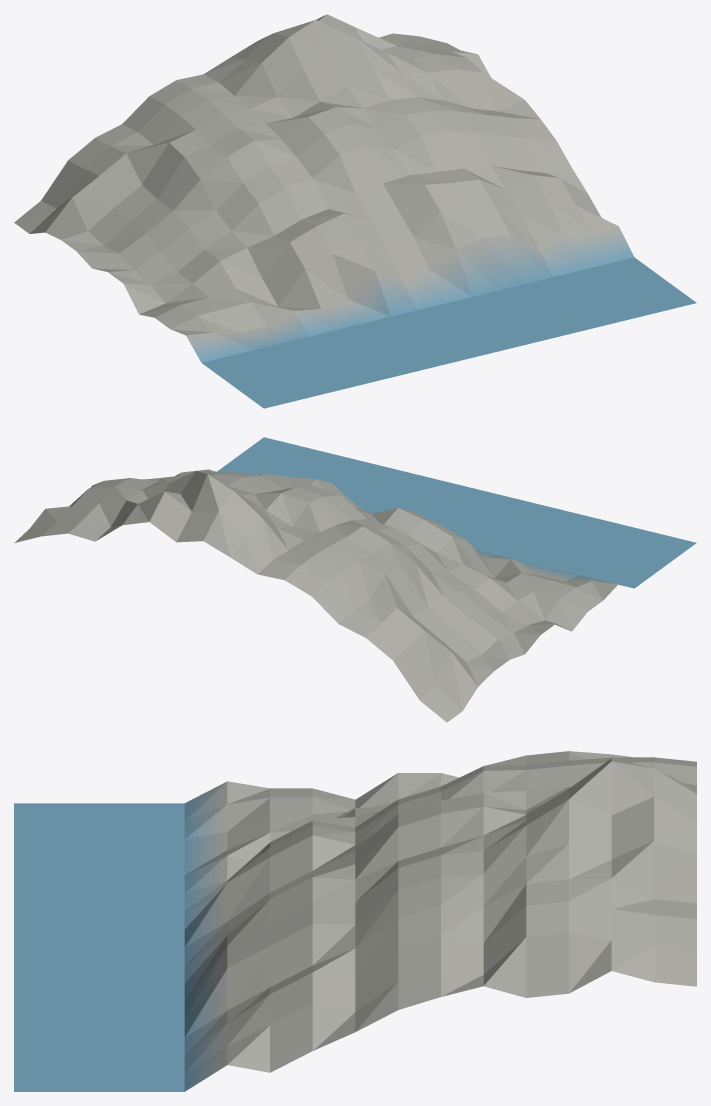
The picture shows the model from 3 angles, top to bottom: view 1: azimuth 30°, elevation 25°; view 2: azimuth 150°, elevation 25°; view 3: azimuth 270°, elevation 25°; orthographic projection. The views are drawn at different scales.
Size of the model in its own units: 32 by 11.49 by 32.
